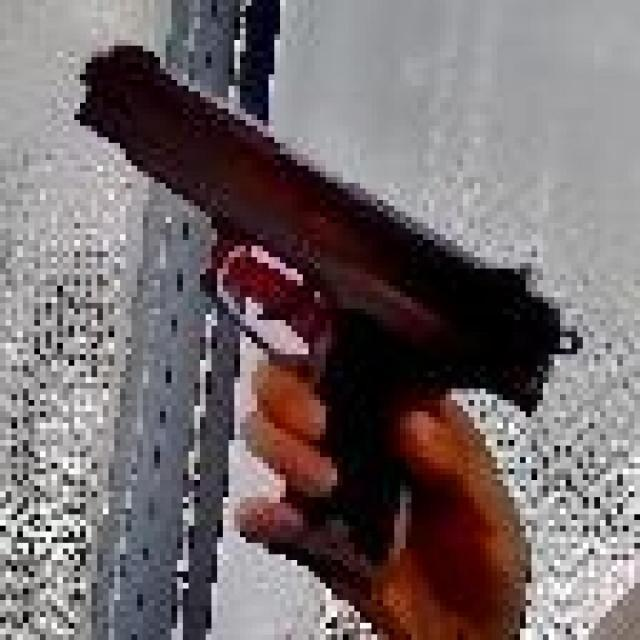pistol: (66, 37, 587, 604)
